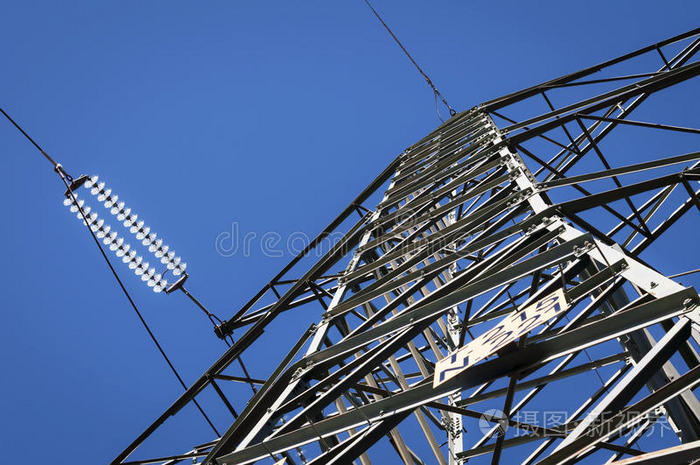insulator: (62, 193, 170, 295), (82, 176, 189, 277)
